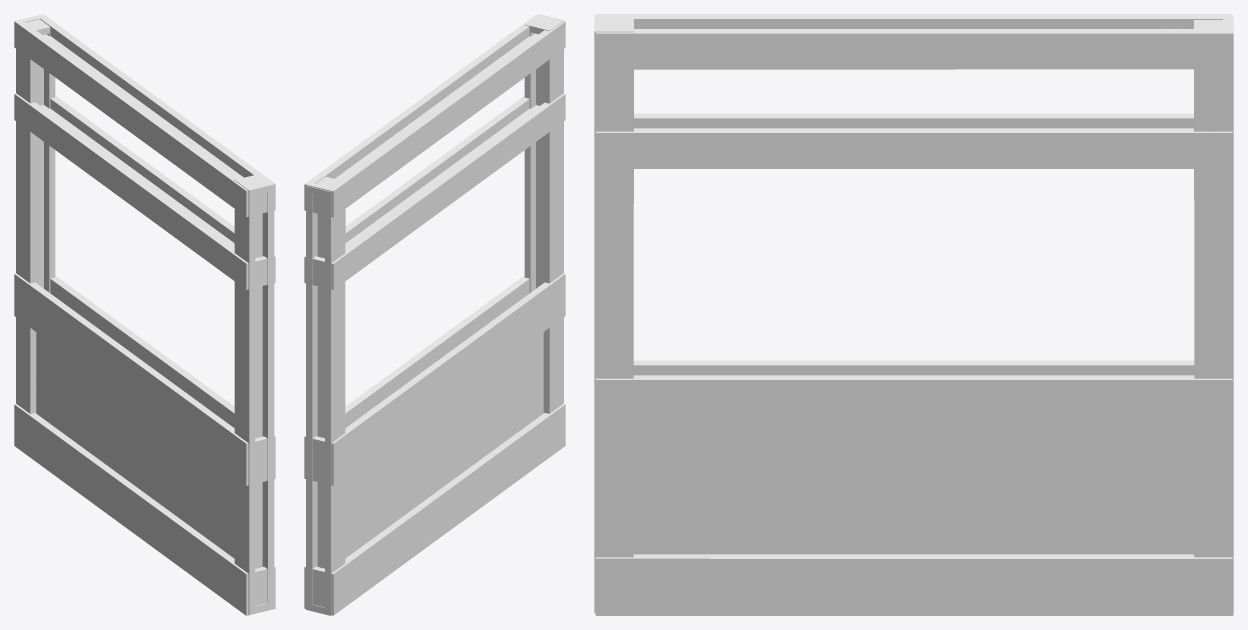
The model's file is Pfb_GlassWall.fbx.
The picture shows the model from 3 angles, left to right: view 1: azimuth 30°, elevation 25°; view 2: azimuth 150°, elevation 25°; view 3: azimuth 270°, elevation 25°; orthographic projection. The views are drawn at different scales.
Visible parts, largest first — view 1: Mat_SteelFrame_01 10, Duck 6; view 2: Mat_SteelFrame_01 10, Duck 6; view 3: Mat_SteelFrame_01 10, Duck 6.
Boxes of the visible parts, box(x1,y1,x2,y2) form: Mat_SteelFrame_01 10: box(14, 14, 275, 615); Duck 6: box(36, 332, 234, 558); Mat_SteelFrame_01 10: box(304, 14, 565, 615); Duck 6: box(345, 332, 543, 558); Mat_SteelFrame_01 10: box(594, 14, 1233, 615); Duck 6: box(633, 437, 1194, 554).
Size of the model in its own units: 0.2893 by 4.01 by 3.98.
2 materials, 2 textured.
